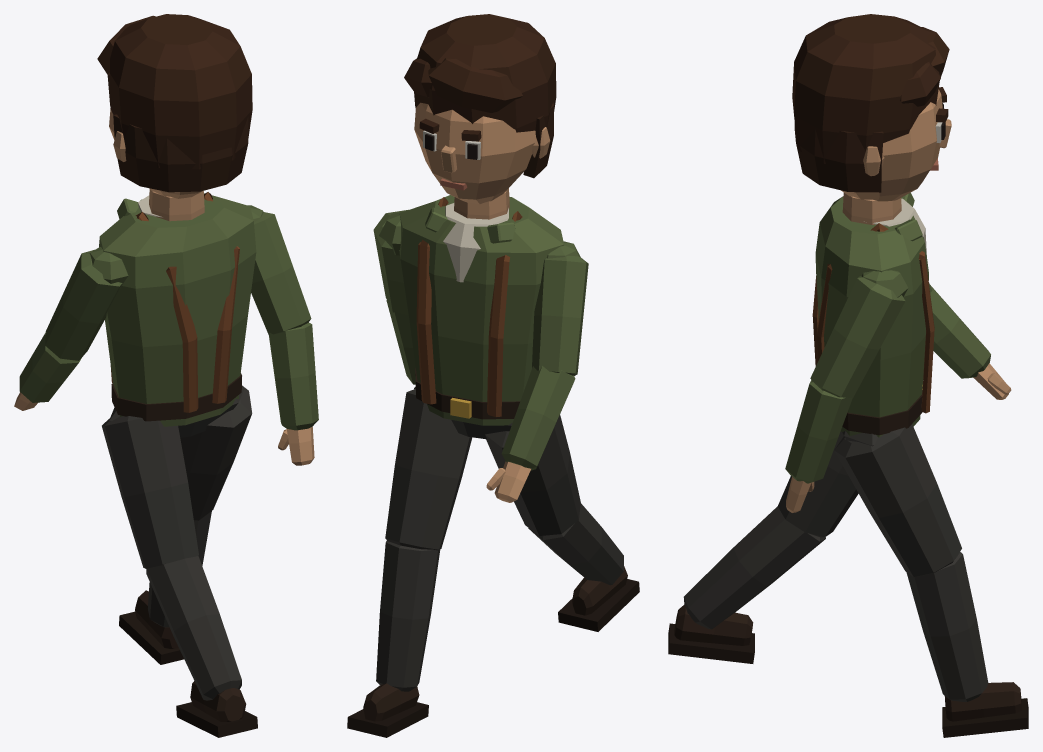
Rendered from chr_paul_w2.glb.
The picture shows the model from 3 angles, left to right: view 1: azimuth 30°, elevation 25°; view 2: azimuth 150°, elevation 25°; view 3: azimuth 270°, elevation 25°; orthographic projection. The views are drawn at different scales.
Visible parts, largest first — view 1: chr_paul_w2; view 2: chr_paul_w2; view 3: chr_paul_w2.
Boxes of the visible parts, box(x1,y1,x2,y2) form: chr_paul_w2: box(14, 14, 318, 737); chr_paul_w2: box(347, 14, 639, 737); chr_paul_w2: box(668, 14, 1028, 737).
Bounding box in the file's own units: 0.6167 × 1.75 × 0.841.
